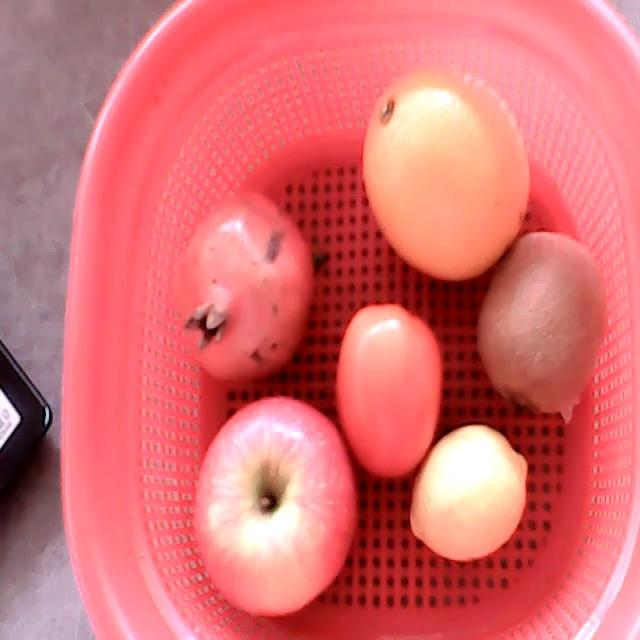apple: (193, 396, 358, 618)
kiwi: (479, 232, 607, 412)
lemon: (410, 424, 528, 561)
orange: (363, 66, 531, 280)
pomegranate: (179, 192, 314, 382)
tomato: (336, 302, 442, 477)
